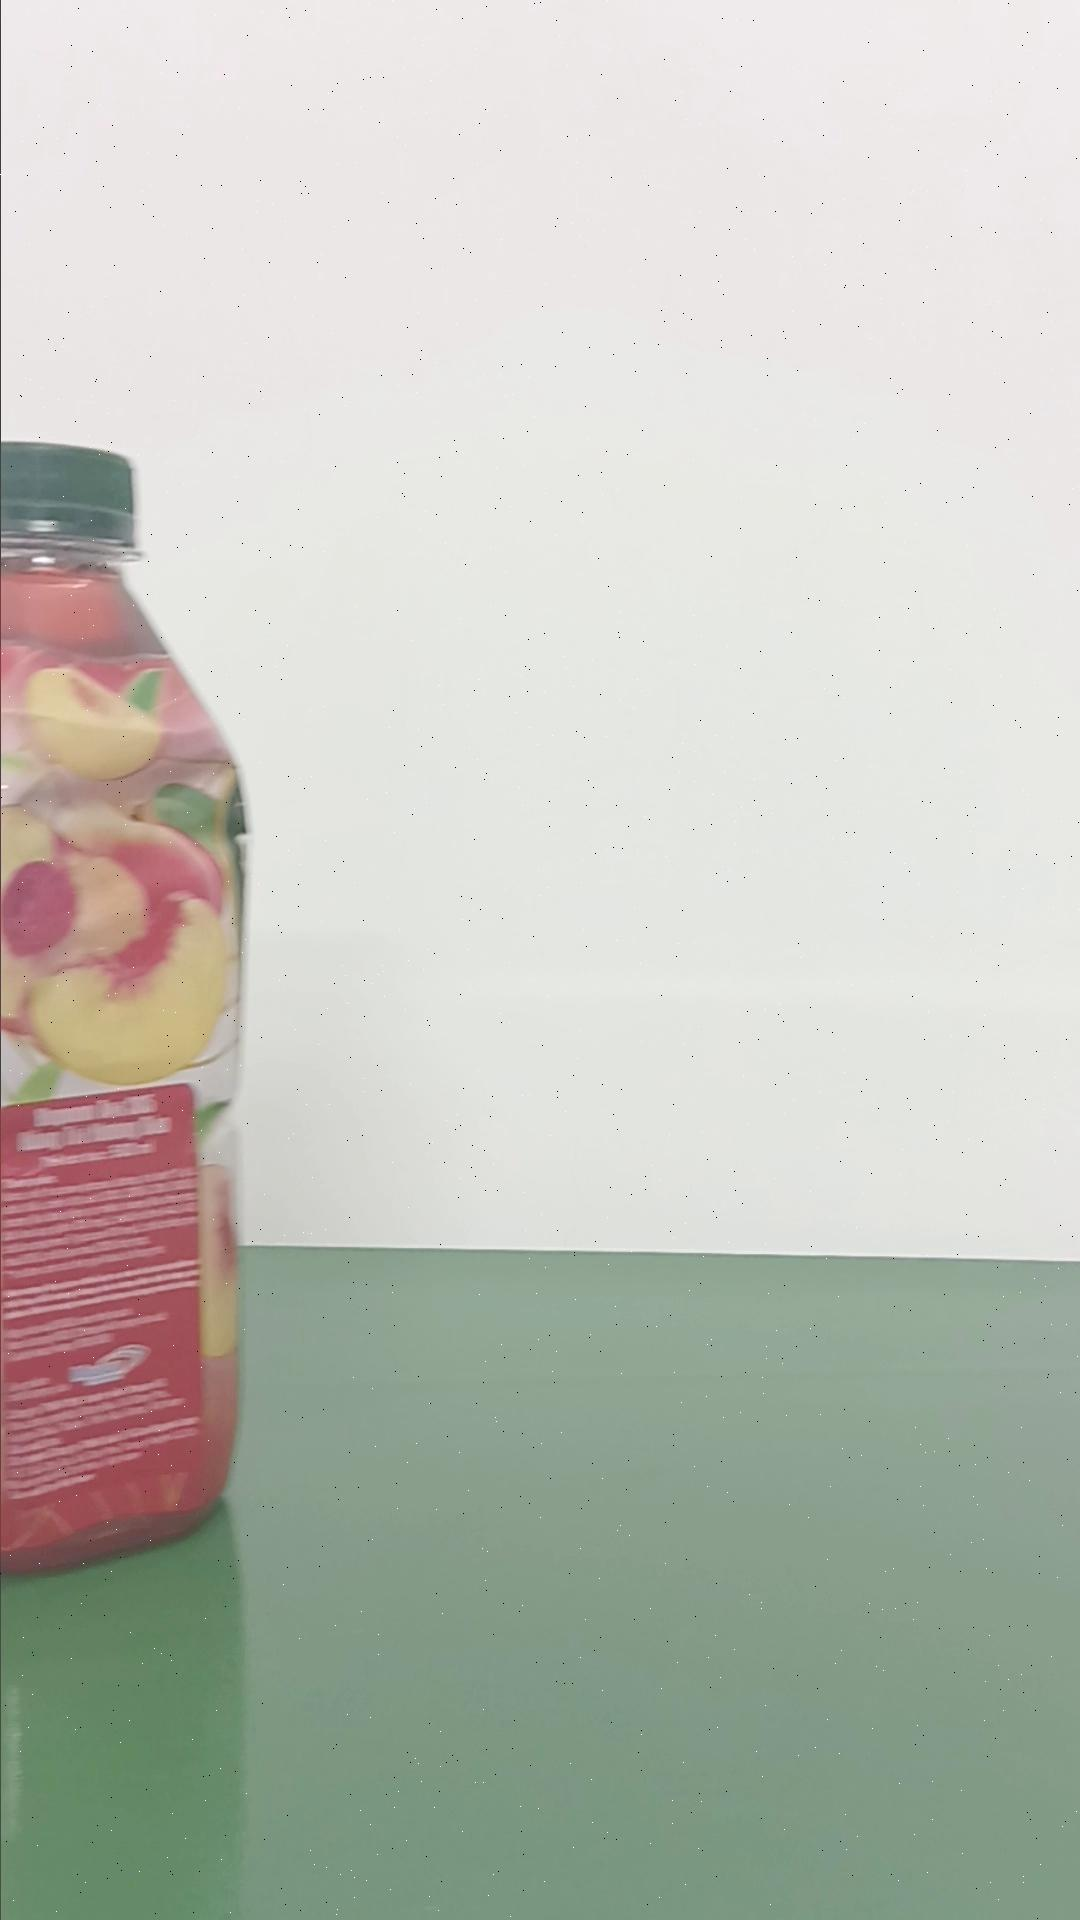loi meo sp: (0, 425, 262, 1585)
